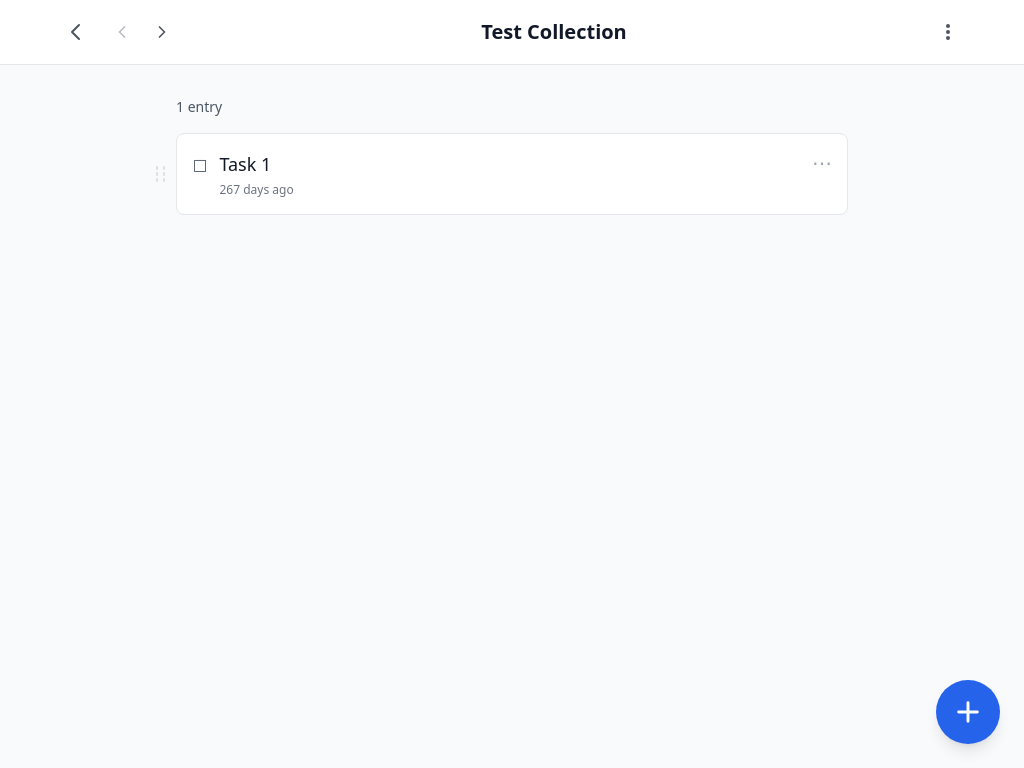
Test: CollectionDetailView - Error Toast › should show a generic error message when bulk migration throws a non-Error
The image size is (1024, 768).
expect the link "Test Collection" is shown: met, box [481,18,627,45]
// Enter selection mode via menu
Click the button named "collection menu" at (948, 32), box [928,12,968,52]
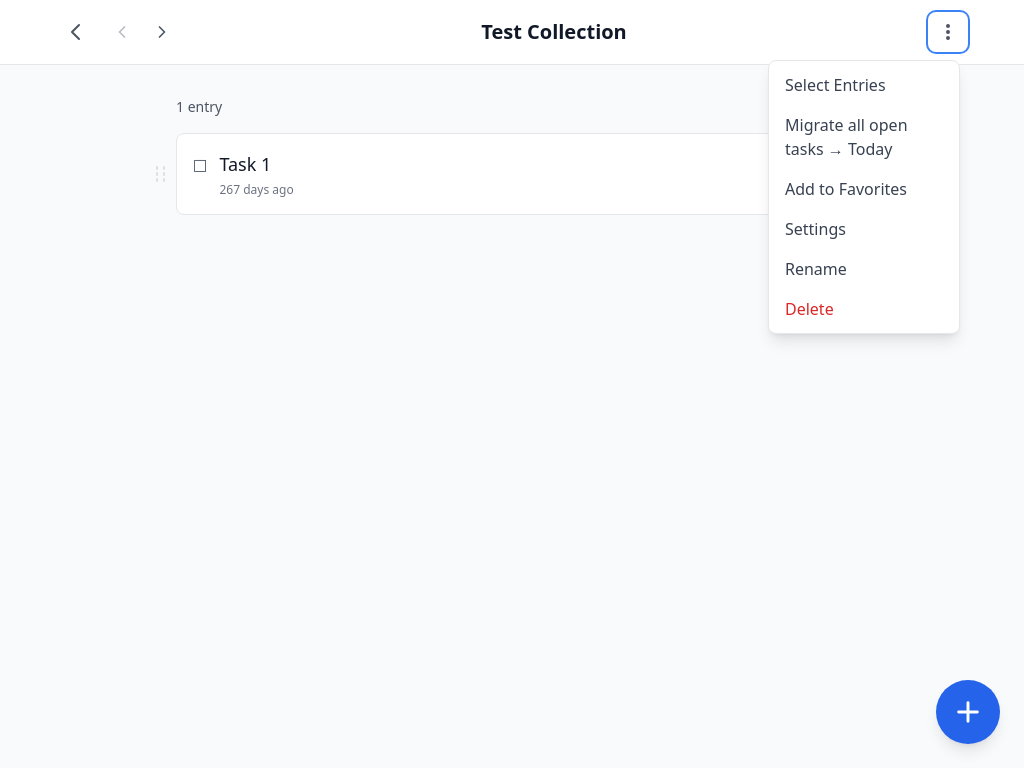
Click the button "Select Entries" at (864, 85), box [769,65,959,105]
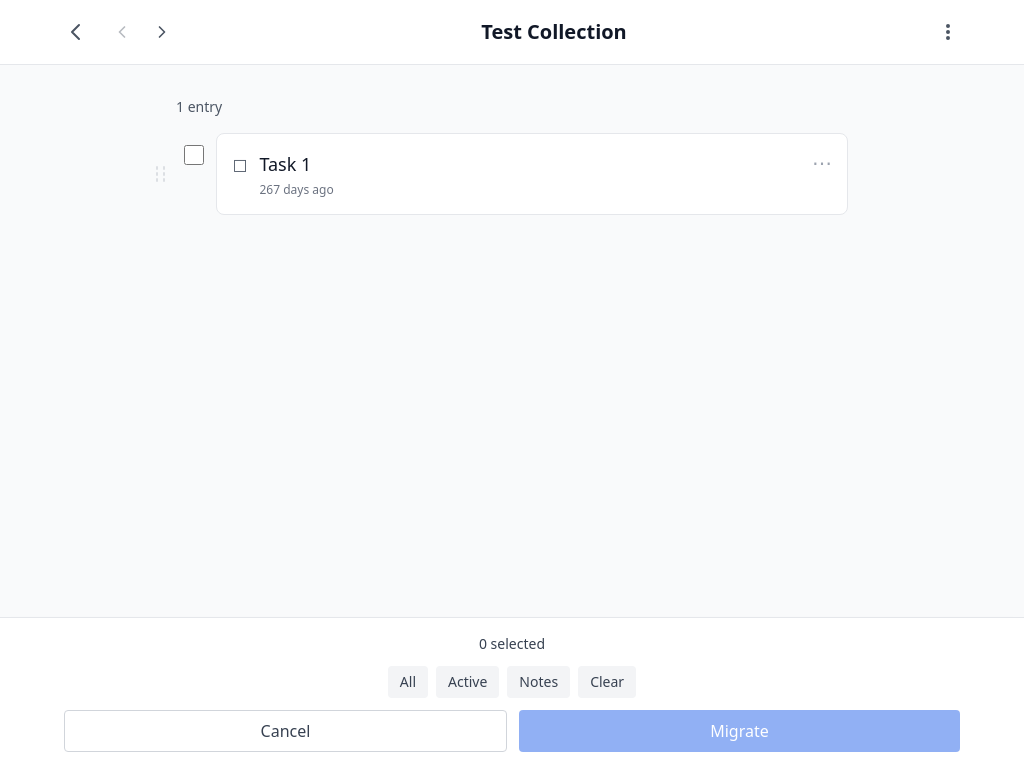
// Select all entries
Click the button "All" at (408, 682), box [388,666,428,698]
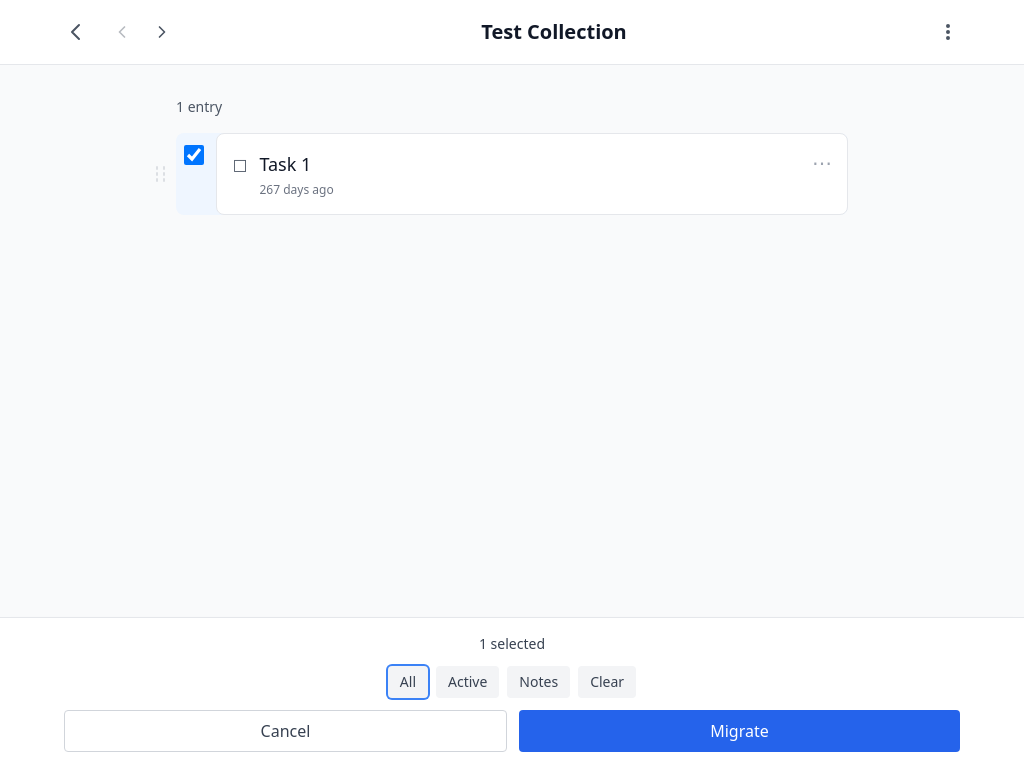
expect the text "1 selected" is shown: met, box [479,634,545,653]
// Open bulk migrate modal
Click the button "Migrate" at (740, 731), box [519,710,960,752]
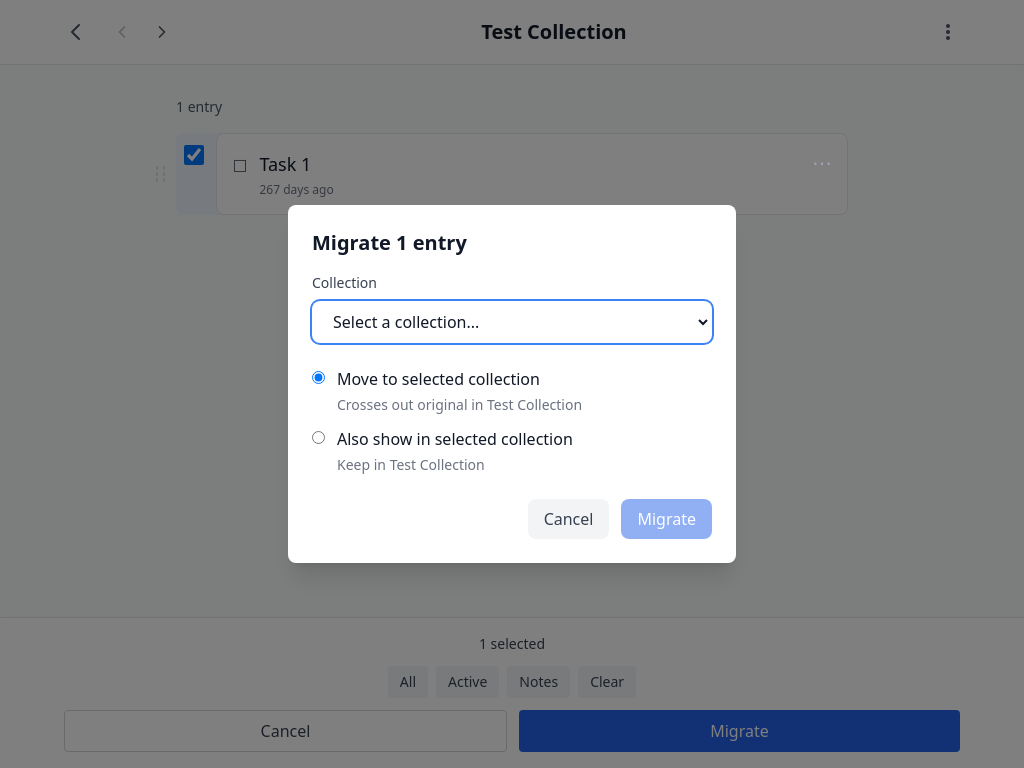
expect the heading "Migrate 1 entry" is shown: met, box [312,229,467,256]
// Select the target collection and submit to trigger the failure path
Select "Another Collection" in the dropdown labelled "Collection" at (512, 322), box [312,301,712,343]
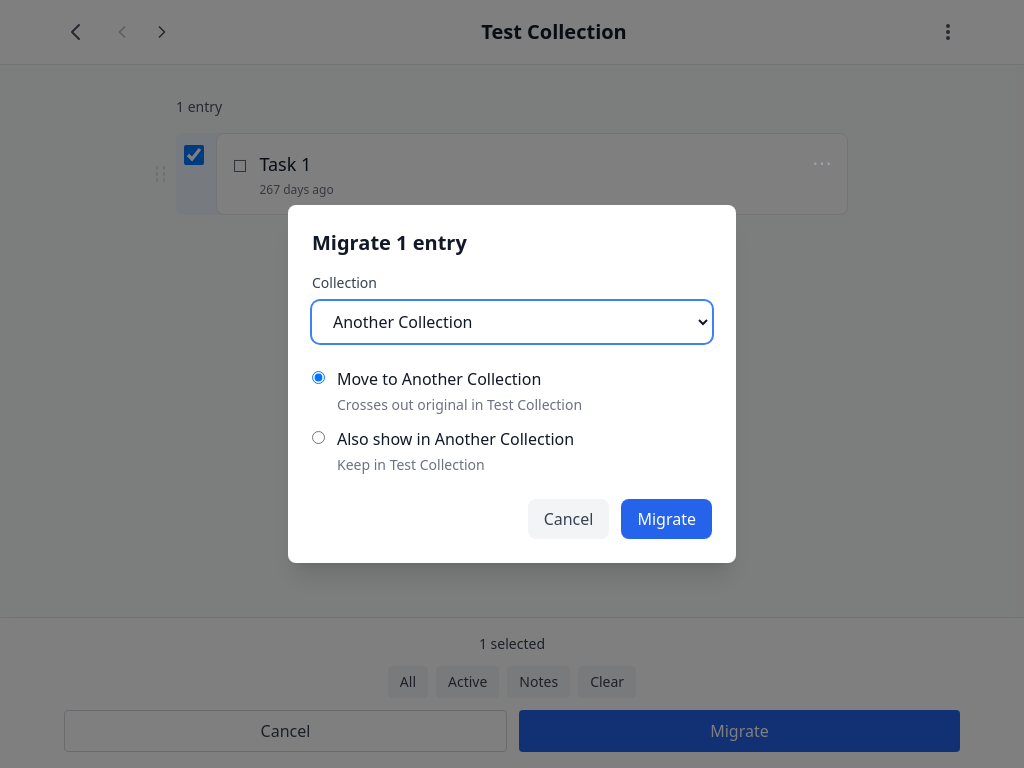
Click the button "Migrate" at (667, 519), box [622,499,712,539]
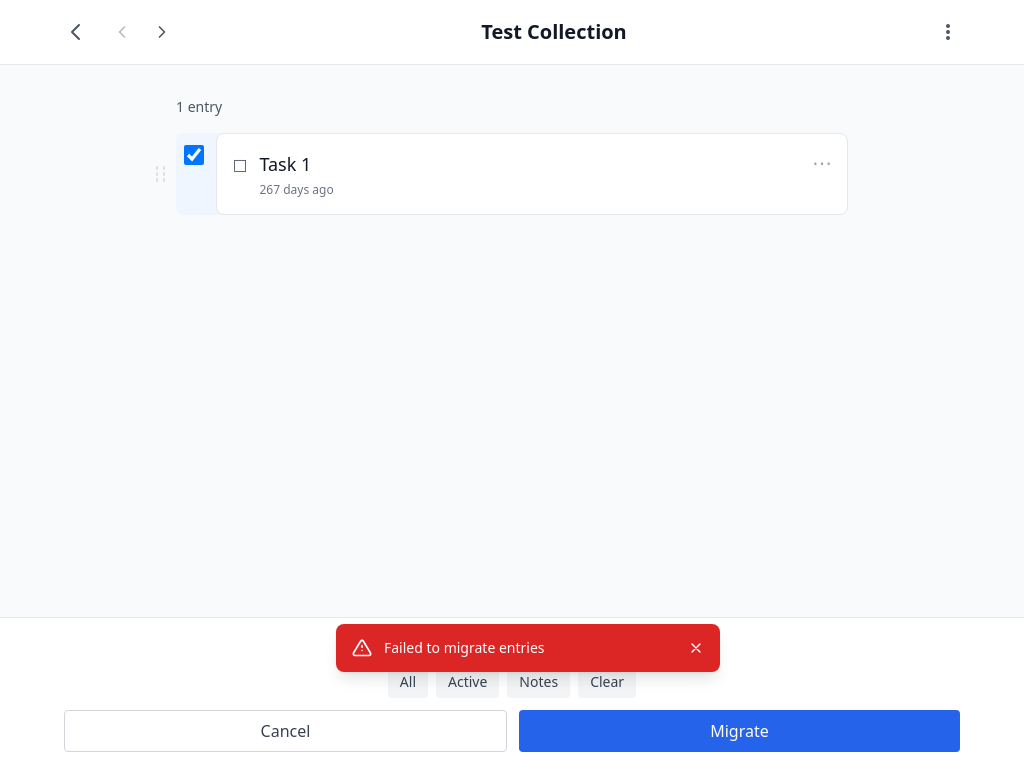
expect the message reads "Failed to migrate entries": met, box [384,638,544,657]
